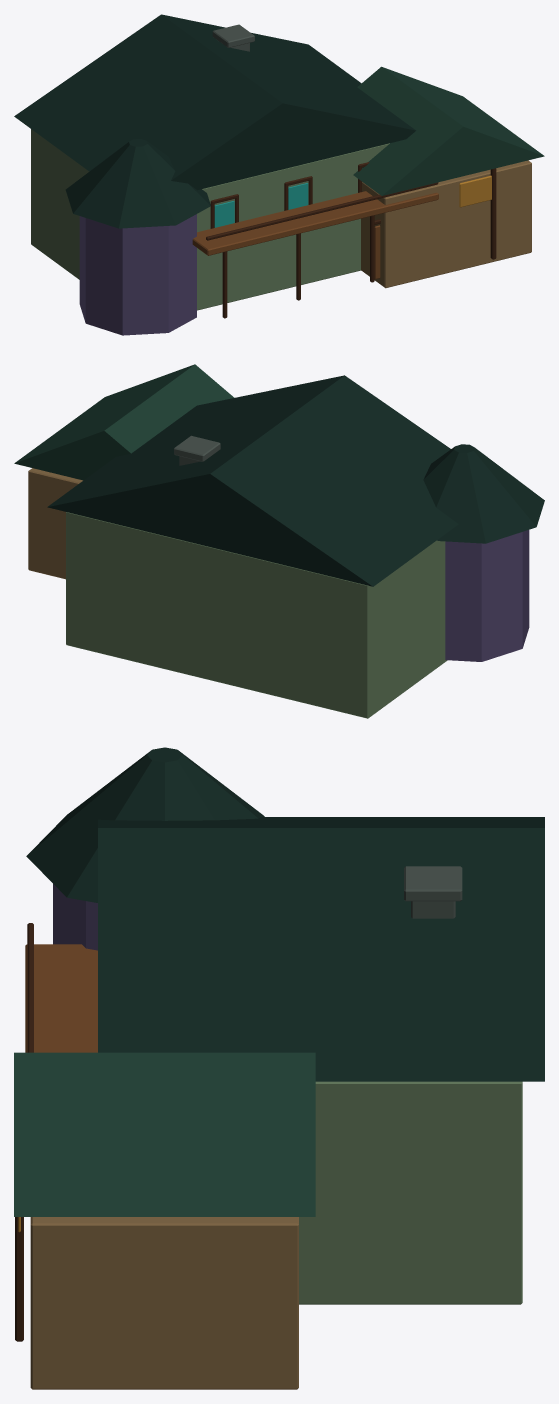
File: LumenWayfarerInnV2.glb
3 views of the same model, one above another, from view 1: azimuth 30°, elevation 25°; view 2: azimuth 150°, elevation 25°; view 3: azimuth 270°, elevation 25° (orthographic). The views are drawn at different scales.
Parts seen in each view (by area): view 1: LumenWayfarerInnV2; view 2: LumenWayfarerInnV2; view 3: LumenWayfarerInnV2.
Part boxes in pixels (x1,y1,x2,y2): LumenWayfarerInnV2: (14, 14, 544, 335); LumenWayfarerInnV2: (14, 364, 544, 718); LumenWayfarerInnV2: (14, 747, 544, 1389).
Bounding box in the file's own units: 40.95 × 17.5 × 23.75.
1 material, 1 textured.
